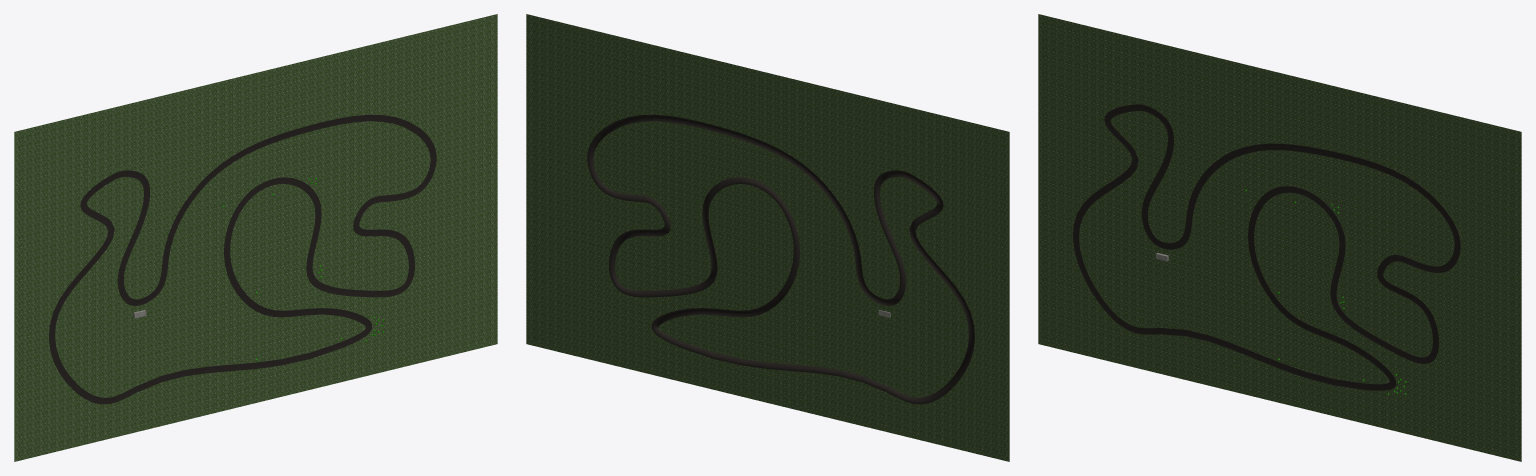
The model's file is asphalt-track-1.obj.
3 renders of one model, left to right at view 1: azimuth 30°, elevation 25°; view 2: azimuth 150°, elevation 25°; view 3: azimuth 330°, elevation 25°, orthographic.
Visible parts, largest first — view 1: Plane001, Curve001; view 2: Plane001, Curve001; view 3: Plane001, Curve001.
Part boxes in pixels (x1,y1,x2,y2): Plane001: [14, 14, 497, 461]; Curve001: [49, 114, 436, 404]; Plane001: [526, 14, 1009, 461]; Curve001: [587, 114, 974, 404]; Plane001: [1038, 14, 1521, 461]; Curve001: [1073, 104, 1460, 390].
Bounding box in the file's own units: 65795 × 42958 × 456.
